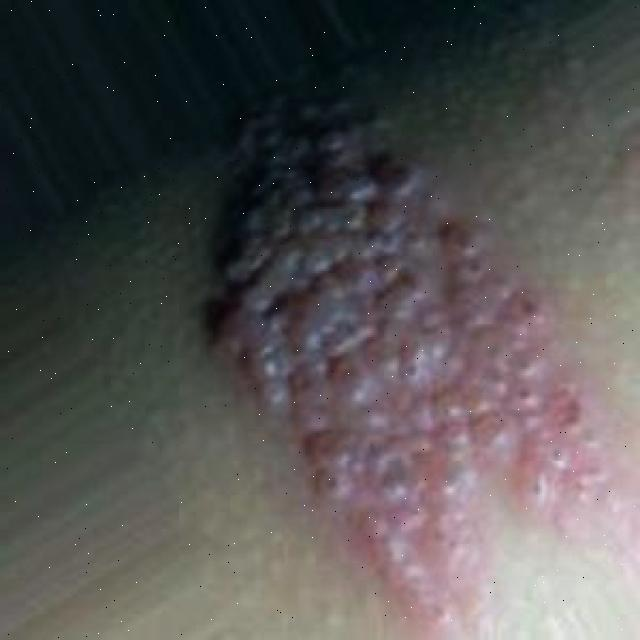Shingles: (208, 92, 620, 629)
